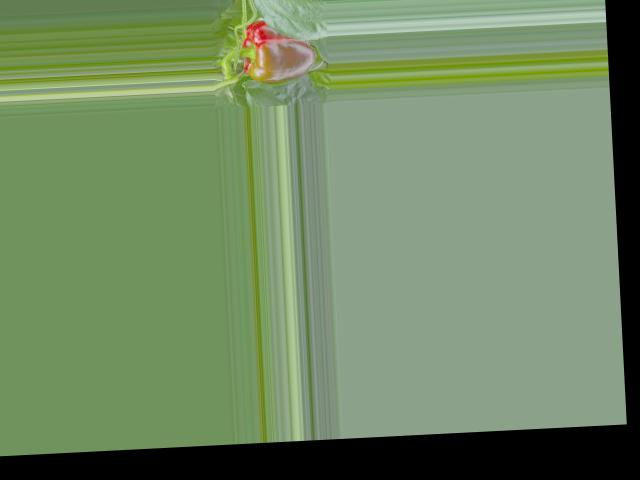bell_pepper: (231, 14, 321, 92)
